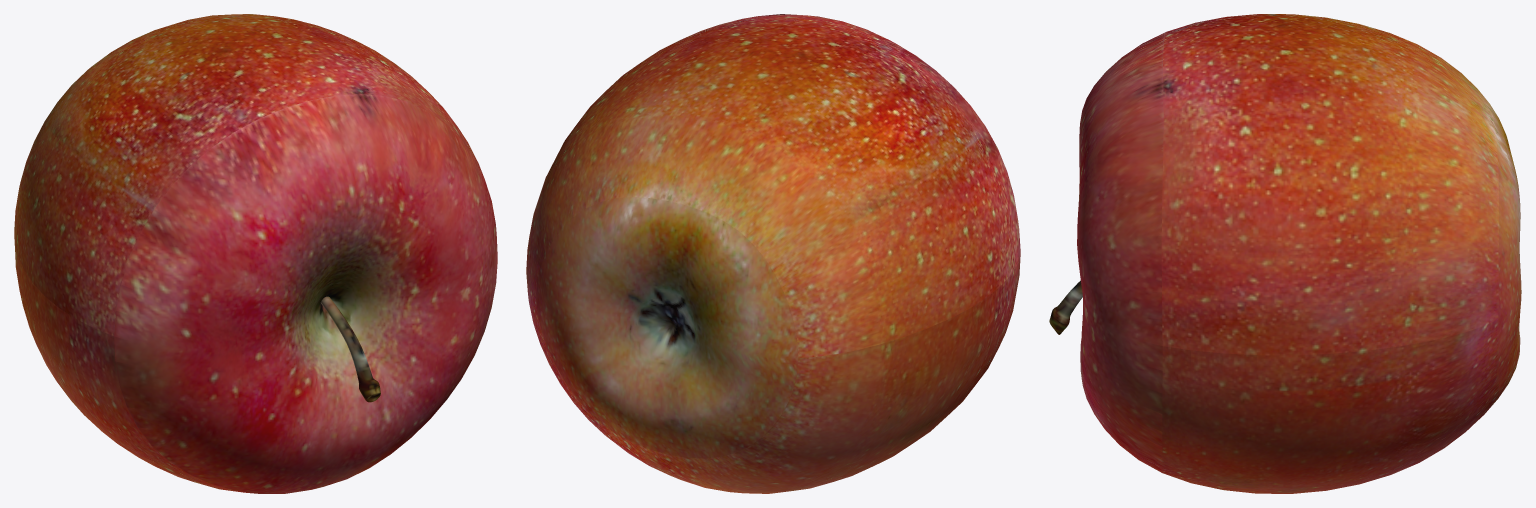
File: apple.obj
The picture shows the model from 3 angles, left to right: view 1: azimuth 30°, elevation 25°; view 2: azimuth 150°, elevation 25°; view 3: azimuth 270°, elevation 25°; orthographic projection. The views are drawn at different scales.
Size of the model in its own units: 0.4106 by 0.406 by 0.3995.
1 material, 1 textured.
